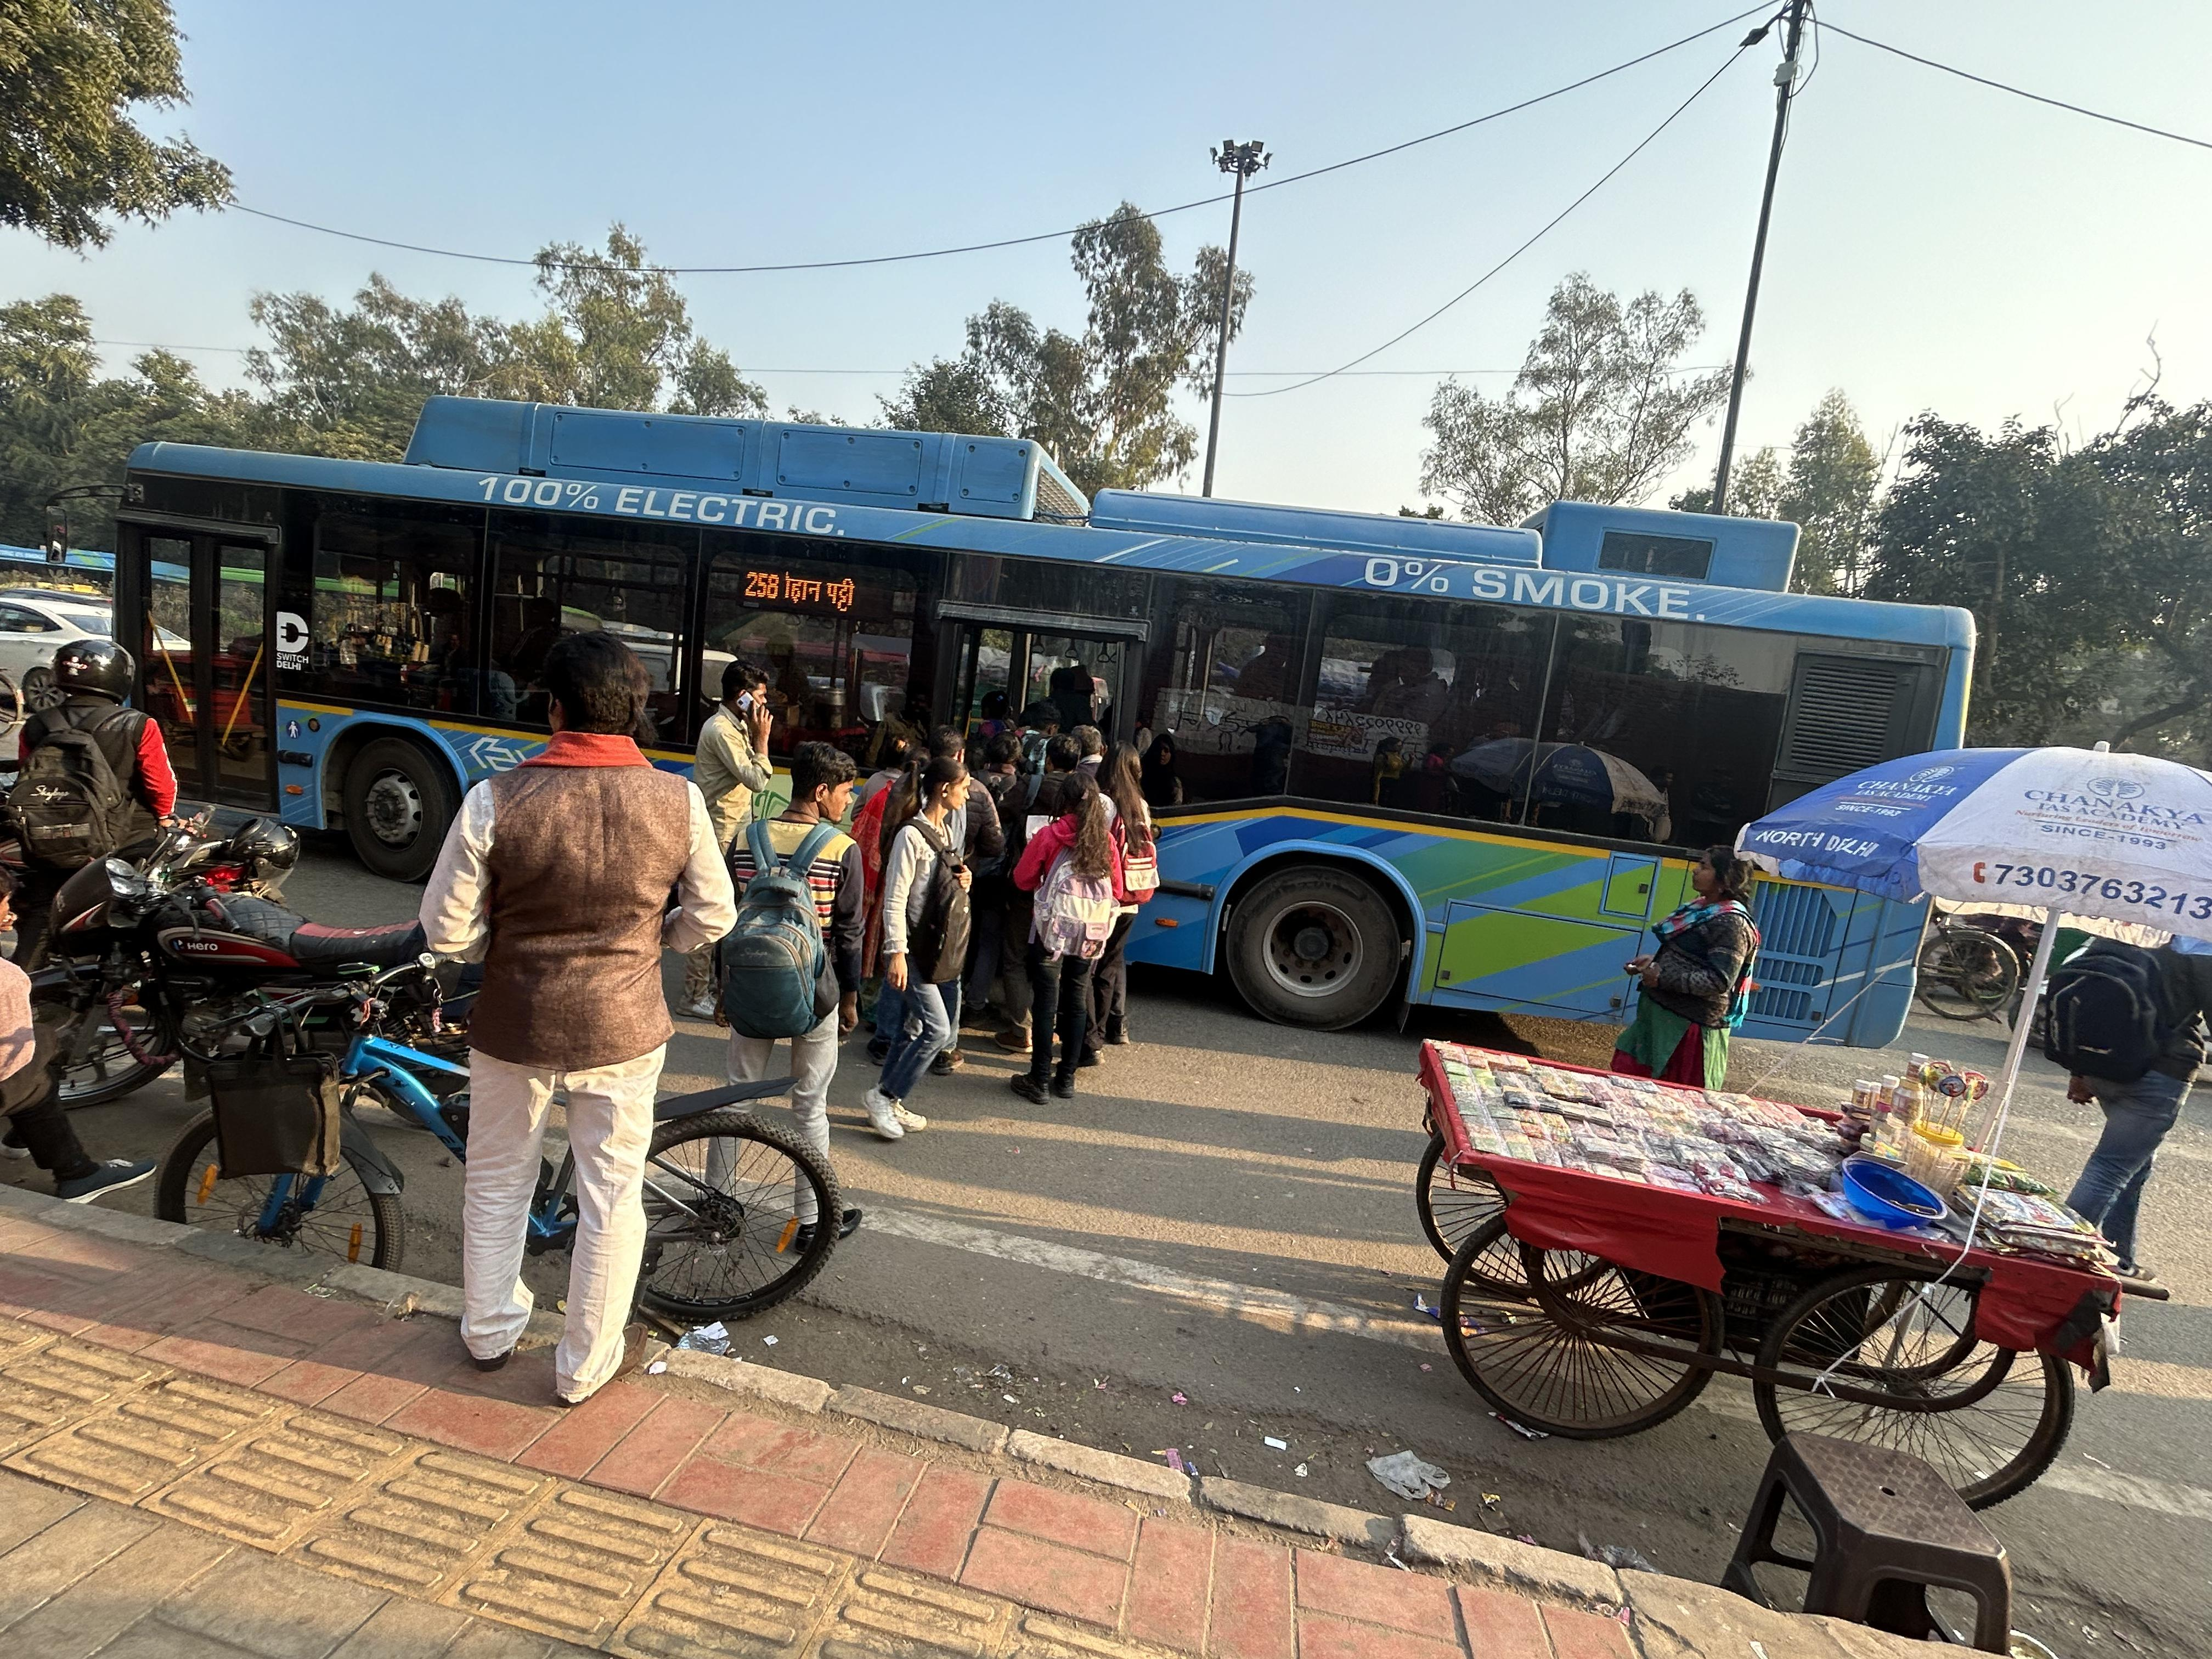Bus: (105, 383, 2019, 1201)
Display Board: (712, 511, 939, 664)
